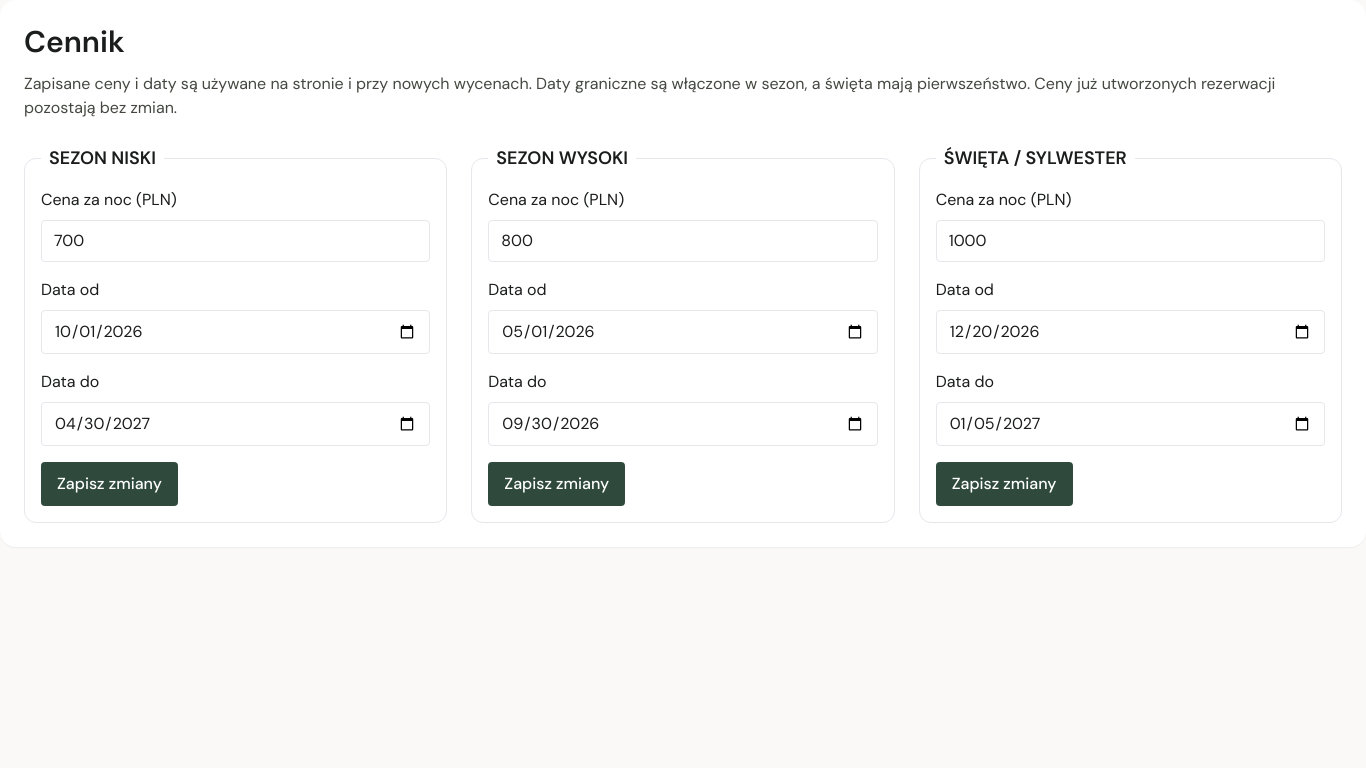
Test: admin seasonal pricing editor › rejects invalid price -1 without sending it
Replace the text in the field labelled "Cena za noc (PLN)" below "SEZON NISKI" with "-1" at (236, 241), box top-left (41, 220), bottom-right (430, 262)
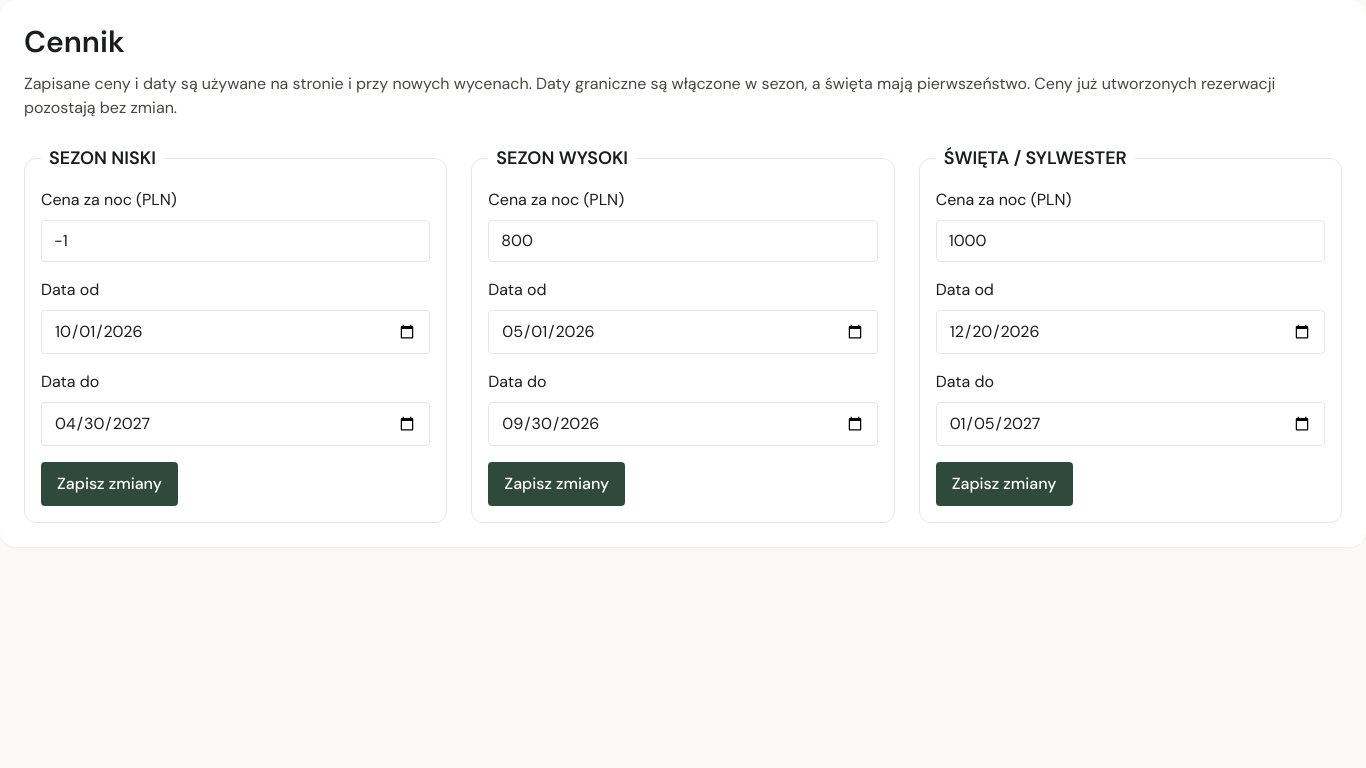
Click the button "Zapisz zmiany" below "SEZON NISKI" at (109, 484), box top-left (41, 462), bottom-right (178, 506)
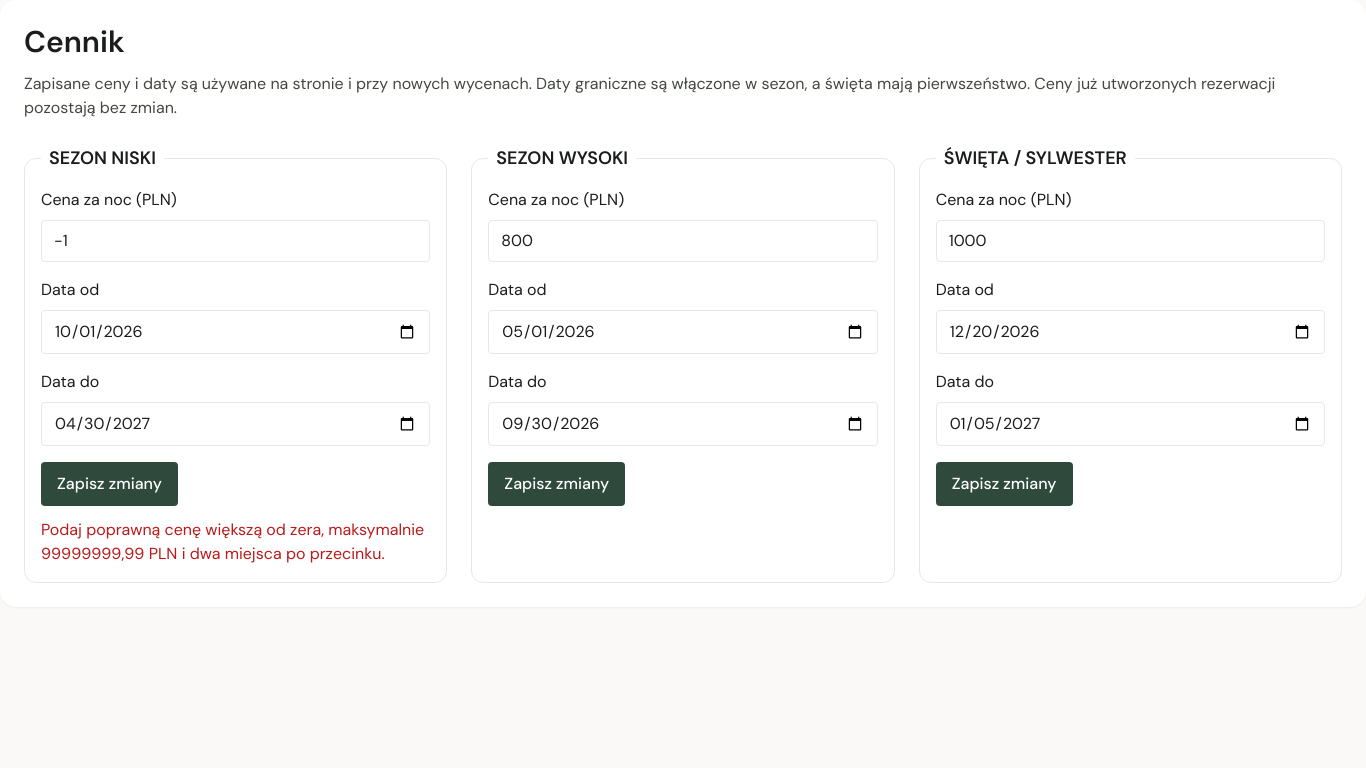
expect the message shows "Podaj poprawną cenę": met, box top-left (41, 519), bottom-right (424, 564)
